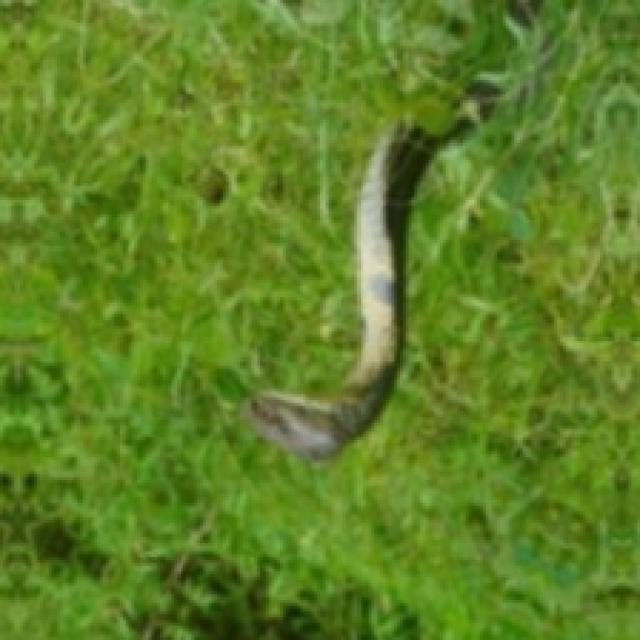king cobra: (246, 80, 494, 457), (246, 111, 471, 457)
